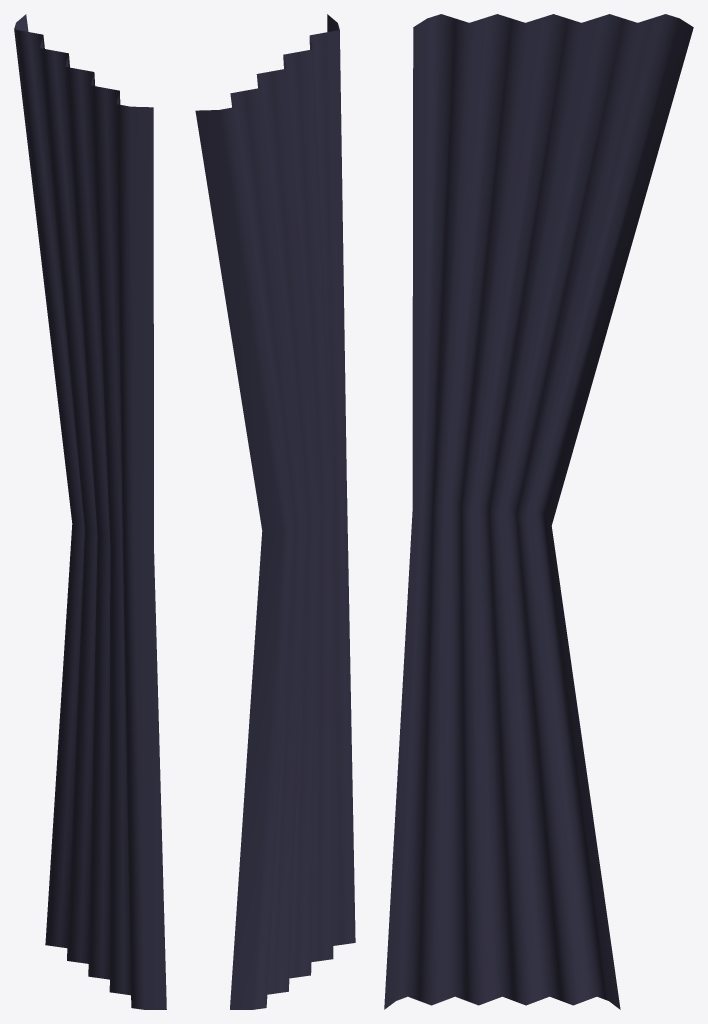
The model's file is SM_Rideau.fbx.
The picture shows the model from 3 angles, left to right: view 1: azimuth 30°, elevation 25°; view 2: azimuth 150°, elevation 25°; view 3: azimuth 270°, elevation 25°; orthographic projection. The views are drawn at different scales.
Parts seen in each view (by area): view 1: pPlane1; view 2: pPlane1; view 3: pPlane1.
Boxes of the visible parts, x1,y1,x2,y2 form: pPlane1: [14, 14, 166, 1009]; pPlane1: [195, 14, 355, 1009]; pPlane1: [384, 14, 693, 1009].
Bounding box in the file's own units: 2.63 × 90.43 × 25.82.
